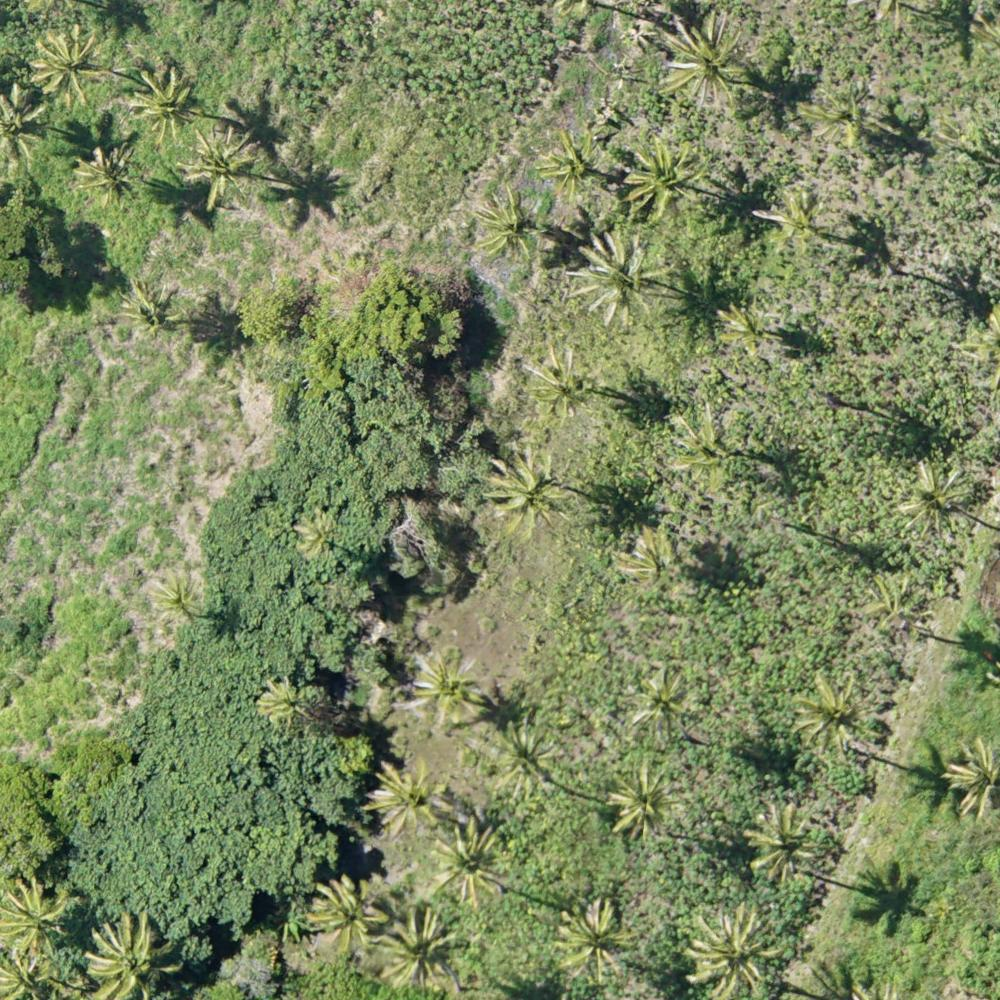Palm: (656, 17, 757, 116), (574, 230, 671, 327), (478, 448, 576, 542), (624, 135, 715, 226), (84, 916, 182, 1000), (690, 909, 779, 997), (793, 669, 876, 759), (30, 25, 114, 107), (385, 910, 466, 995), (432, 821, 508, 910), (371, 762, 454, 840), (311, 873, 390, 954), (553, 900, 632, 980), (746, 804, 822, 885), (902, 460, 975, 538), (131, 66, 206, 141), (489, 723, 563, 799), (535, 131, 612, 204), (1, 875, 69, 956), (608, 765, 682, 839), (523, 349, 596, 423), (408, 657, 486, 726), (187, 132, 259, 206), (475, 191, 547, 262), (943, 739, 1000, 818), (801, 81, 872, 144), (631, 667, 696, 735), (861, 569, 929, 634), (115, 274, 186, 334), (671, 407, 732, 476), (616, 529, 679, 595), (765, 190, 825, 258), (74, 143, 141, 202), (718, 301, 776, 360), (145, 569, 205, 625), (257, 676, 315, 733), (289, 510, 336, 559)
